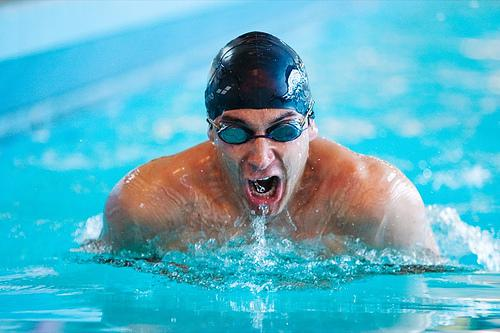human: (98, 27, 446, 264)
